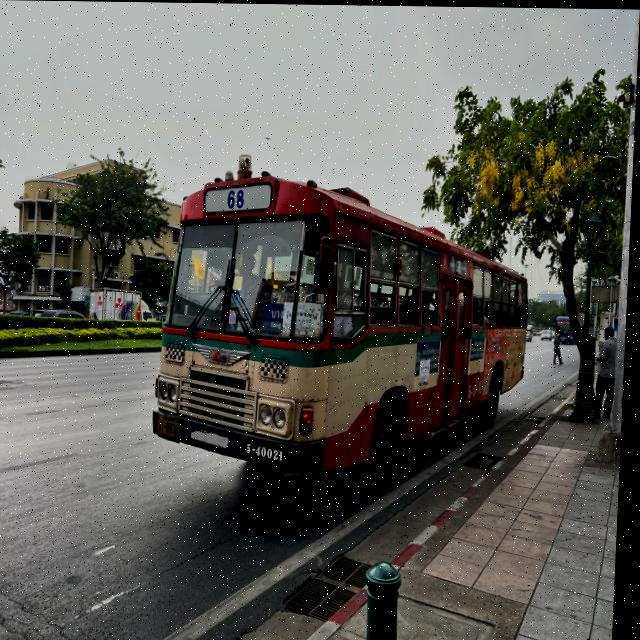BMTA-bus: (153, 155, 537, 488)
Bus-Line-Number: (225, 189, 250, 209)
Destination-Sign-Normal: (263, 300, 287, 332)
